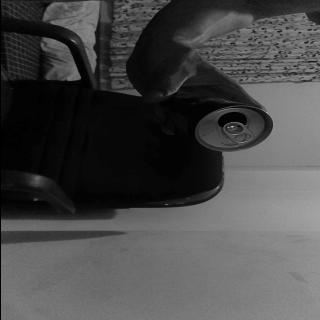alumunium_can: (171, 90, 277, 150)
